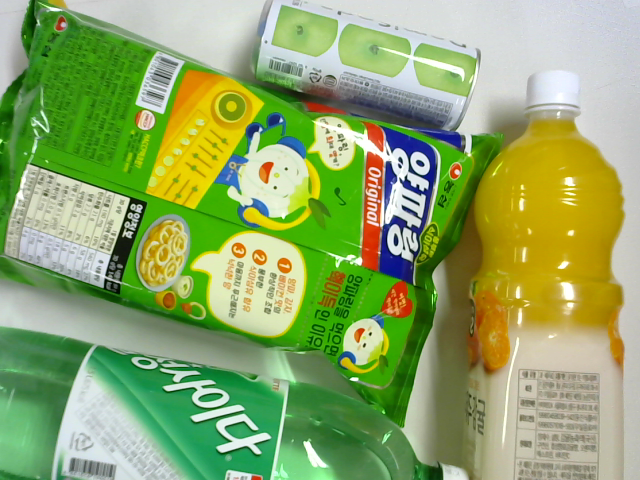Chilseong_Cider_1.5L: (1, 323, 484, 478)
Demisoda_Apple_Can_250ml: (241, 1, 481, 125)
Jeju_Tangerine_1.5L: (466, 57, 628, 480)
Oninon_Ring: (1, 1, 480, 395)
